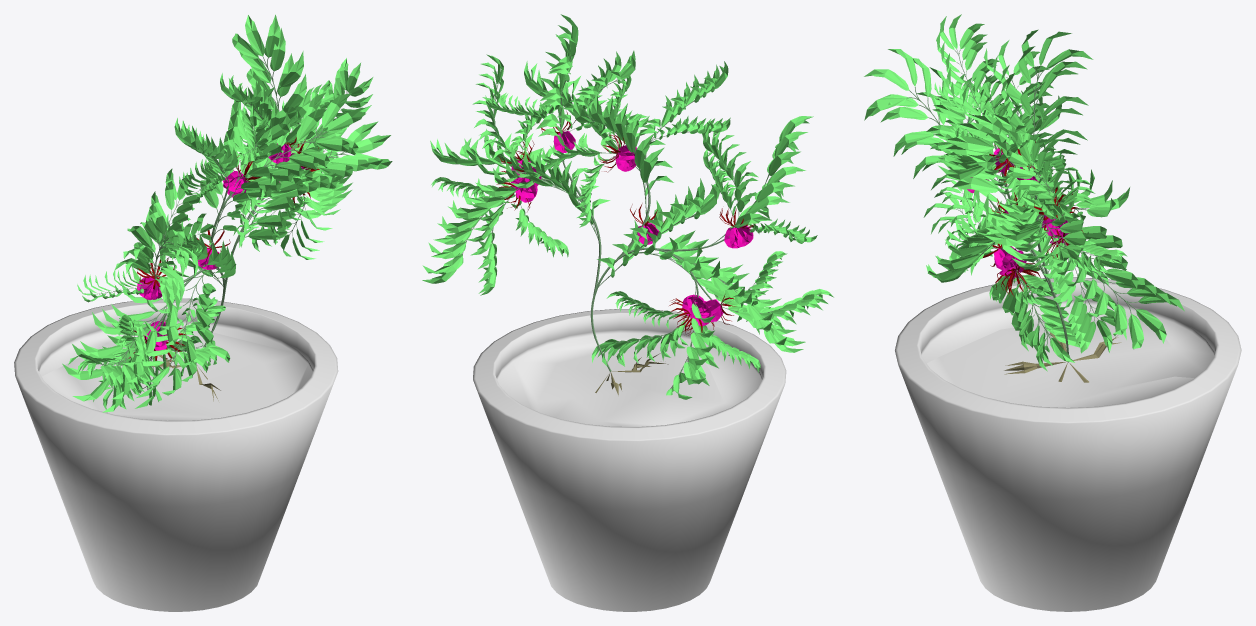
Rendered from ExportedBlenderFBXFile.fbx.
3 views of the same model, side by side, from view 1: azimuth 30°, elevation 25°; view 2: azimuth 150°, elevation 25°; view 3: azimuth 270°, elevation 25° (orthographic). The views are drawn at different scales.
Visible parts, largest first — view 1: Circle, 1Newplan; view 2: Circle, 1Newplan; view 3: Circle, 1Newplan.
Boxes of the visible parts, bbox=[...] form: Circle: bbox=[14, 298, 338, 611]; 1Newplan: bbox=[62, 14, 392, 412]; Circle: bbox=[473, 308, 786, 611]; 1Newplan: bbox=[422, 14, 833, 399]; Circle: bbox=[895, 277, 1241, 611]; 1Newplan: bbox=[864, 14, 1184, 382].
Bounding box in the file's own units: 5.02 × 7.26 × 4.23.
